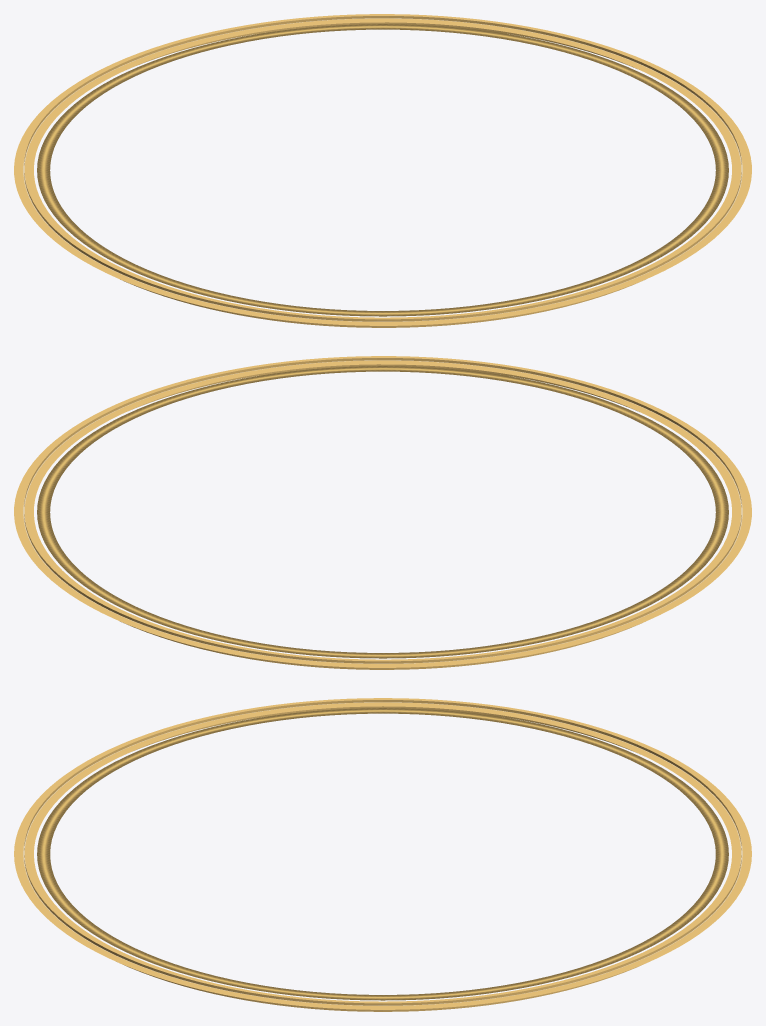
Rendered from floating_pedestal_dial_glow.obj.
3 renders of one model, top to bottom at view 1: azimuth 30°, elevation 25°; view 2: azimuth 150°, elevation 25°; view 3: azimuth 270°, elevation 25°, orthographic.
Bounding box in the file's own units: 28.16 × 0.36 × 28.16.
